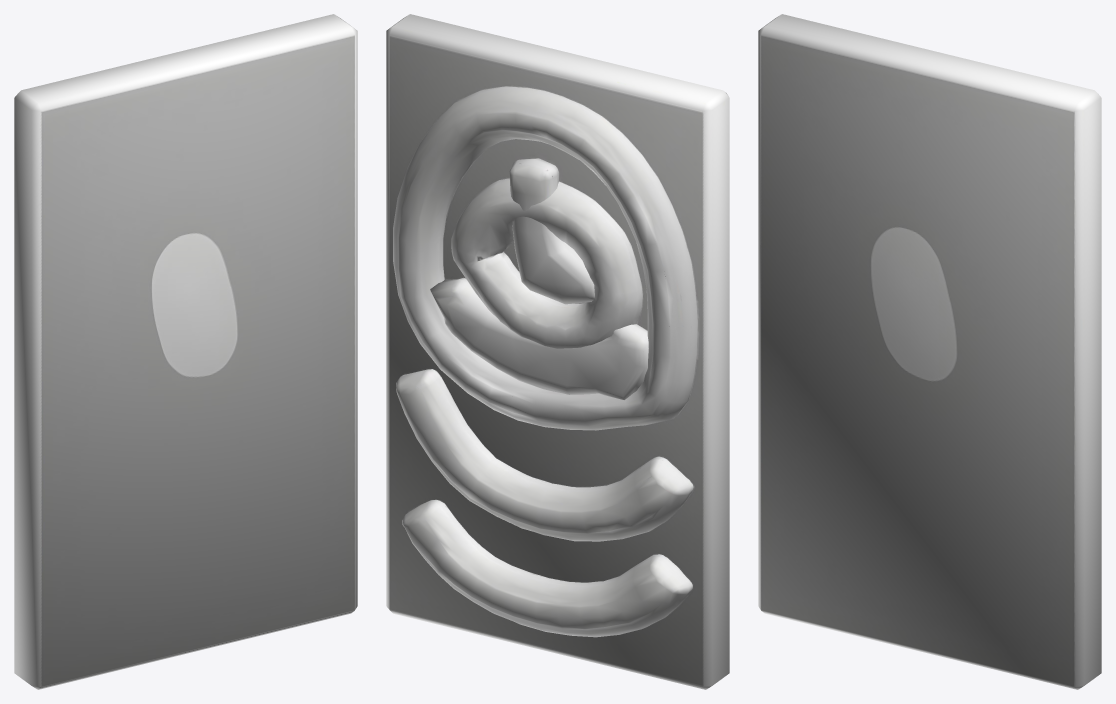
File: original_glb.glb
3 views of the same model, side by side, from view 1: azimuth 30°, elevation 25°; view 2: azimuth 150°, elevation 25°; view 3: azimuth 330°, elevation 25° (orthographic).
Parts seen in each view (by area): view 1: Brushed Steel Elevator Leaf; view 2: Brushed Steel Elevator Leaf; view 3: Brushed Steel Elevator Leaf.
Part boxes in pixels (x1,y1,x2,y2): Brushed Steel Elevator Leaf: (14, 14, 357, 689); Brushed Steel Elevator Leaf: (386, 14, 729, 689); Brushed Steel Elevator Leaf: (758, 14, 1101, 689).
Size of the model in its own units: 0.5801 by 0.998 by 0.1152.
Materials: 1 (1 with a texture image).
